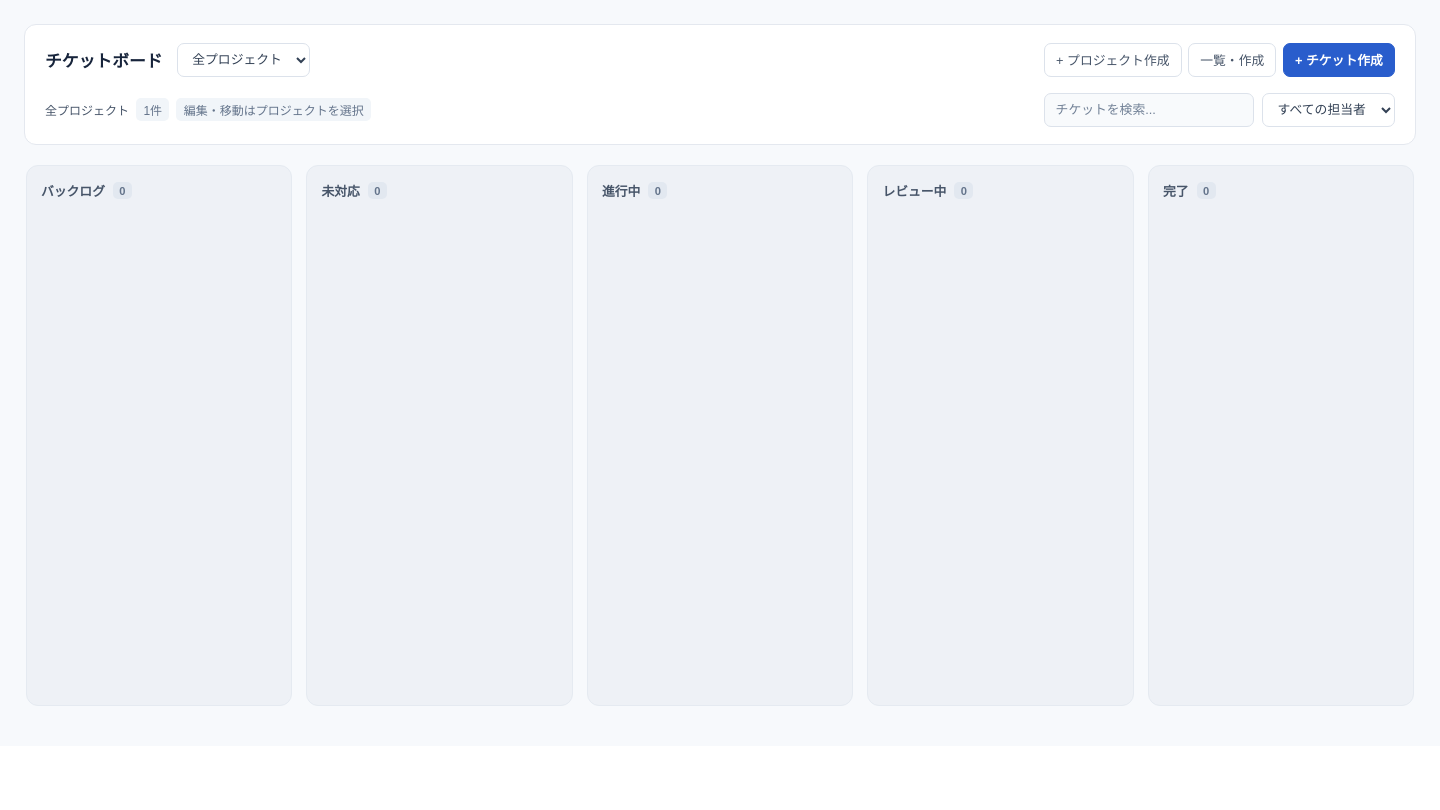
Test: creates a ticket through the board and renders the server response
This screenshot has width=1440, height=810.
Select "General" in the dropdown named "プロジェクト" at (243, 60), box [177,43,310,77]
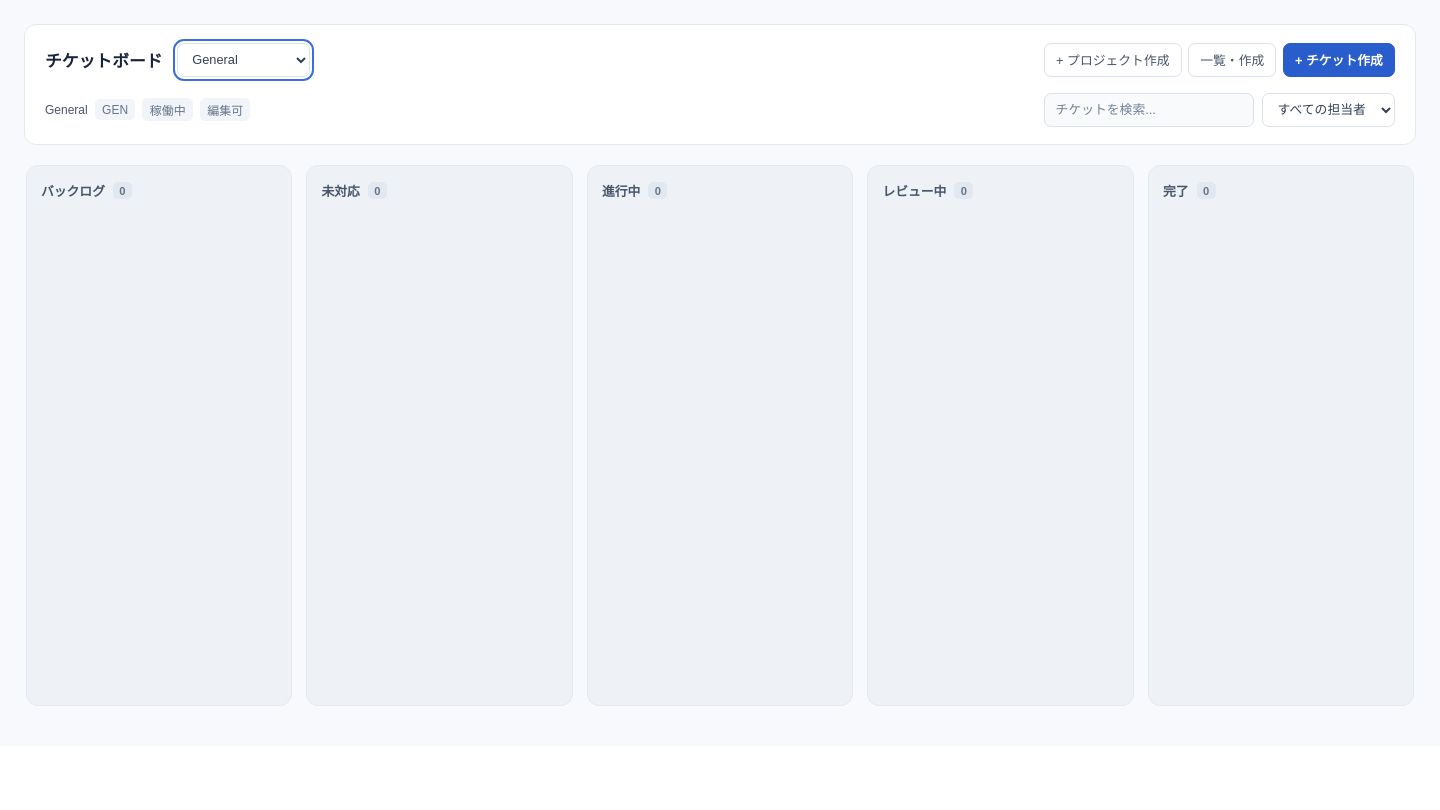
Click the button "+ チケット作成" at (1339, 60), box [1283,43,1395,77]
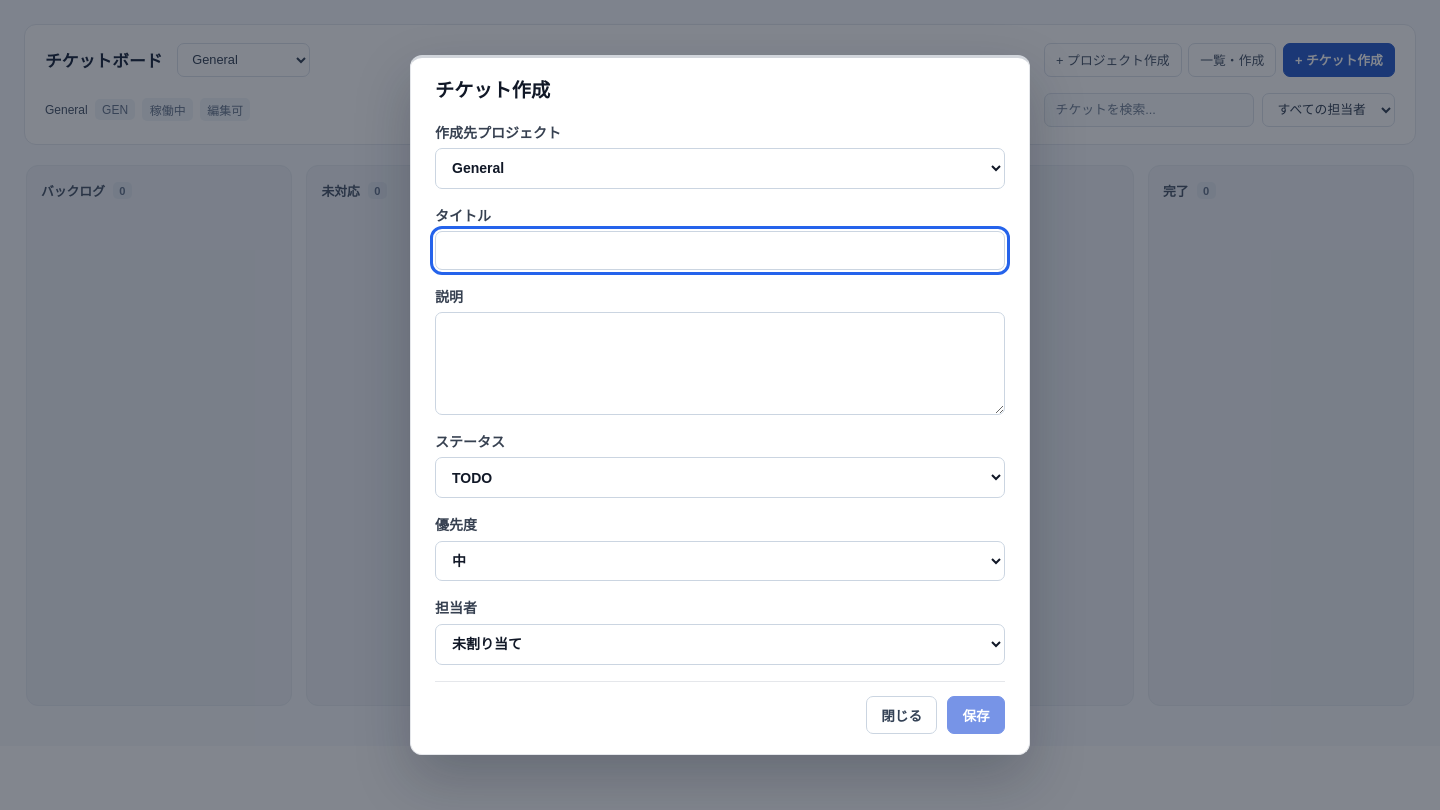
Expected: the heading "チケット作成" is shown, [435,78,550,104]
Type "Created from board" into the field labelled "タイトル" at (720, 250), box [435,231,1005,270]
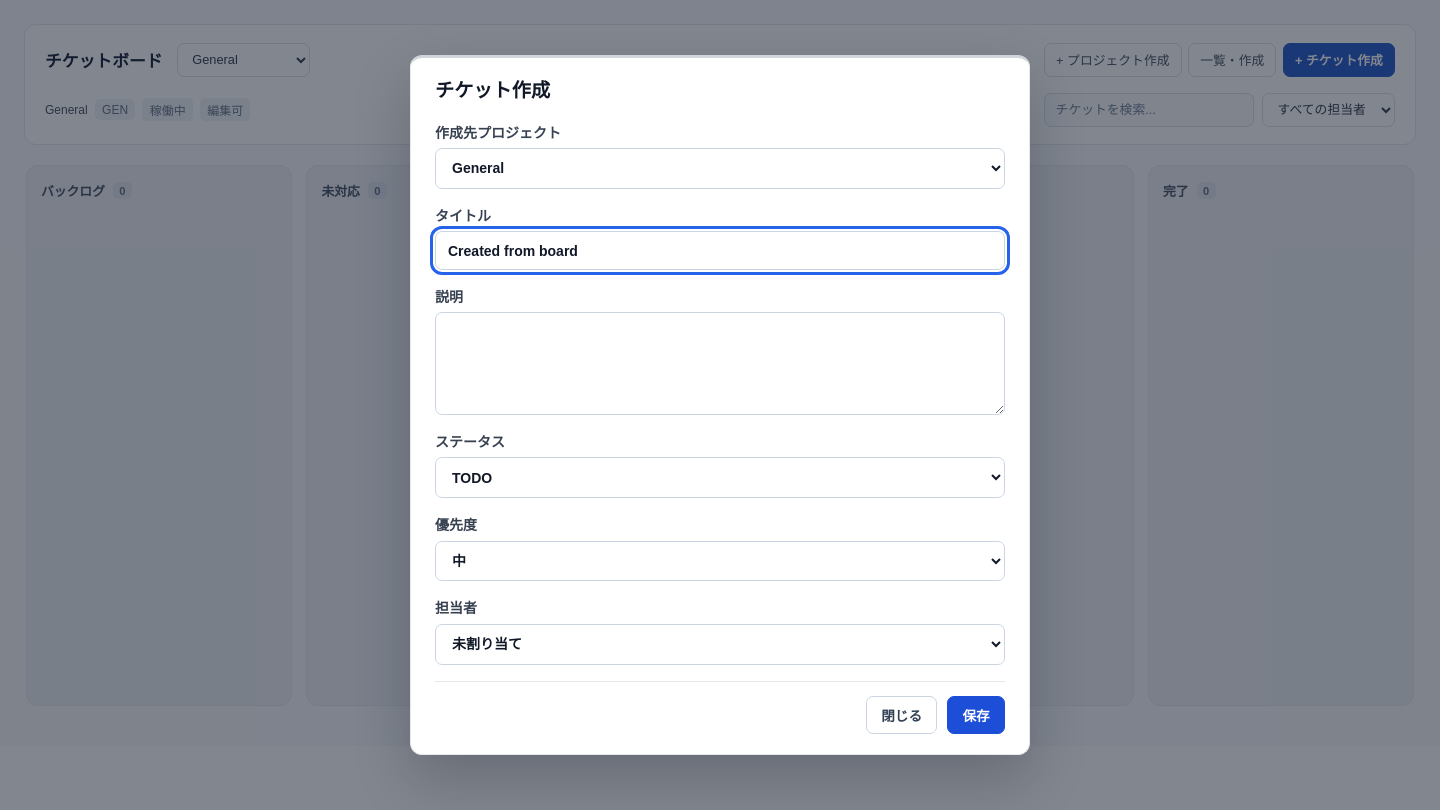
Click the button "保存" at (976, 715), box [947,696,1005,734]
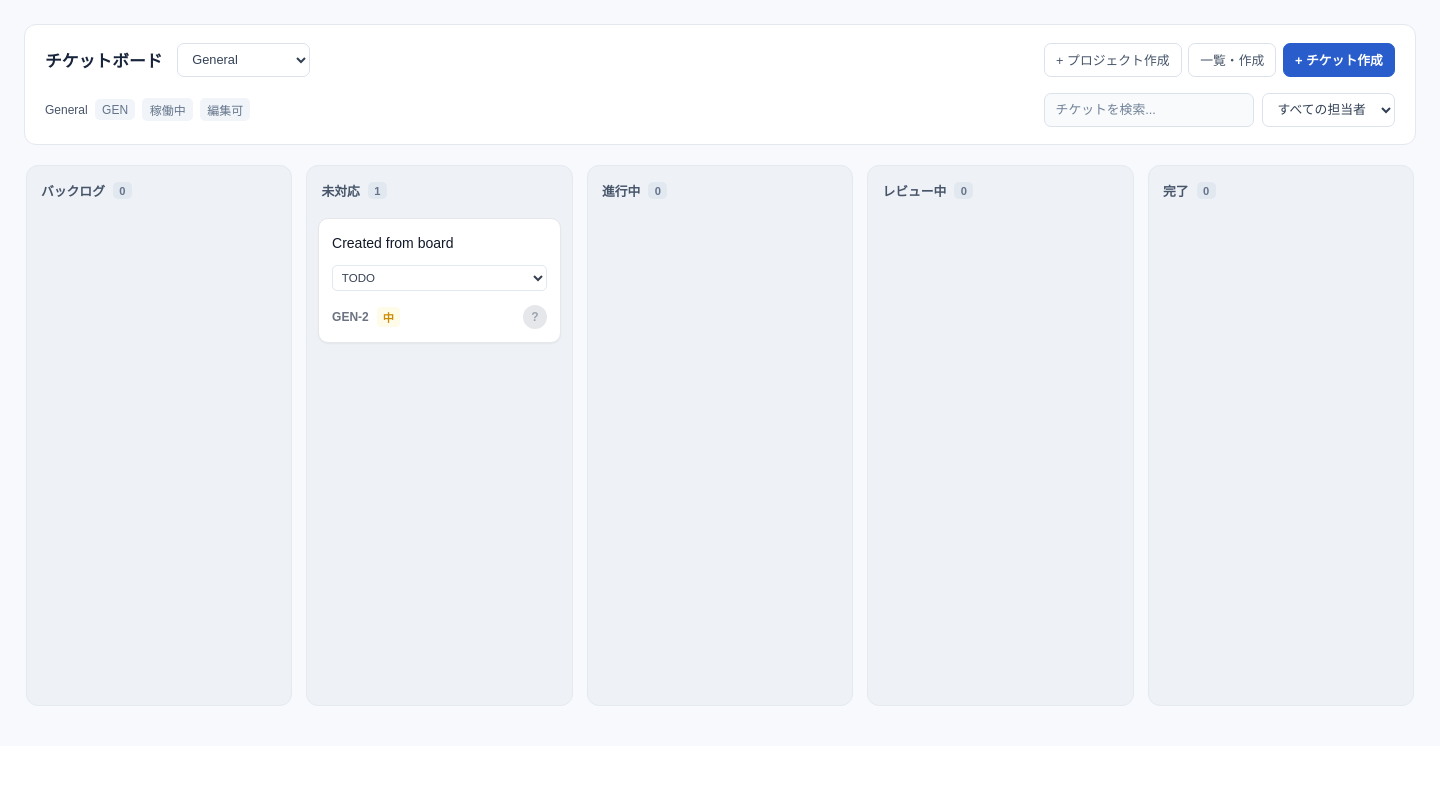
Expected: the button "Created from board" is shown, [332,232,454,255]
